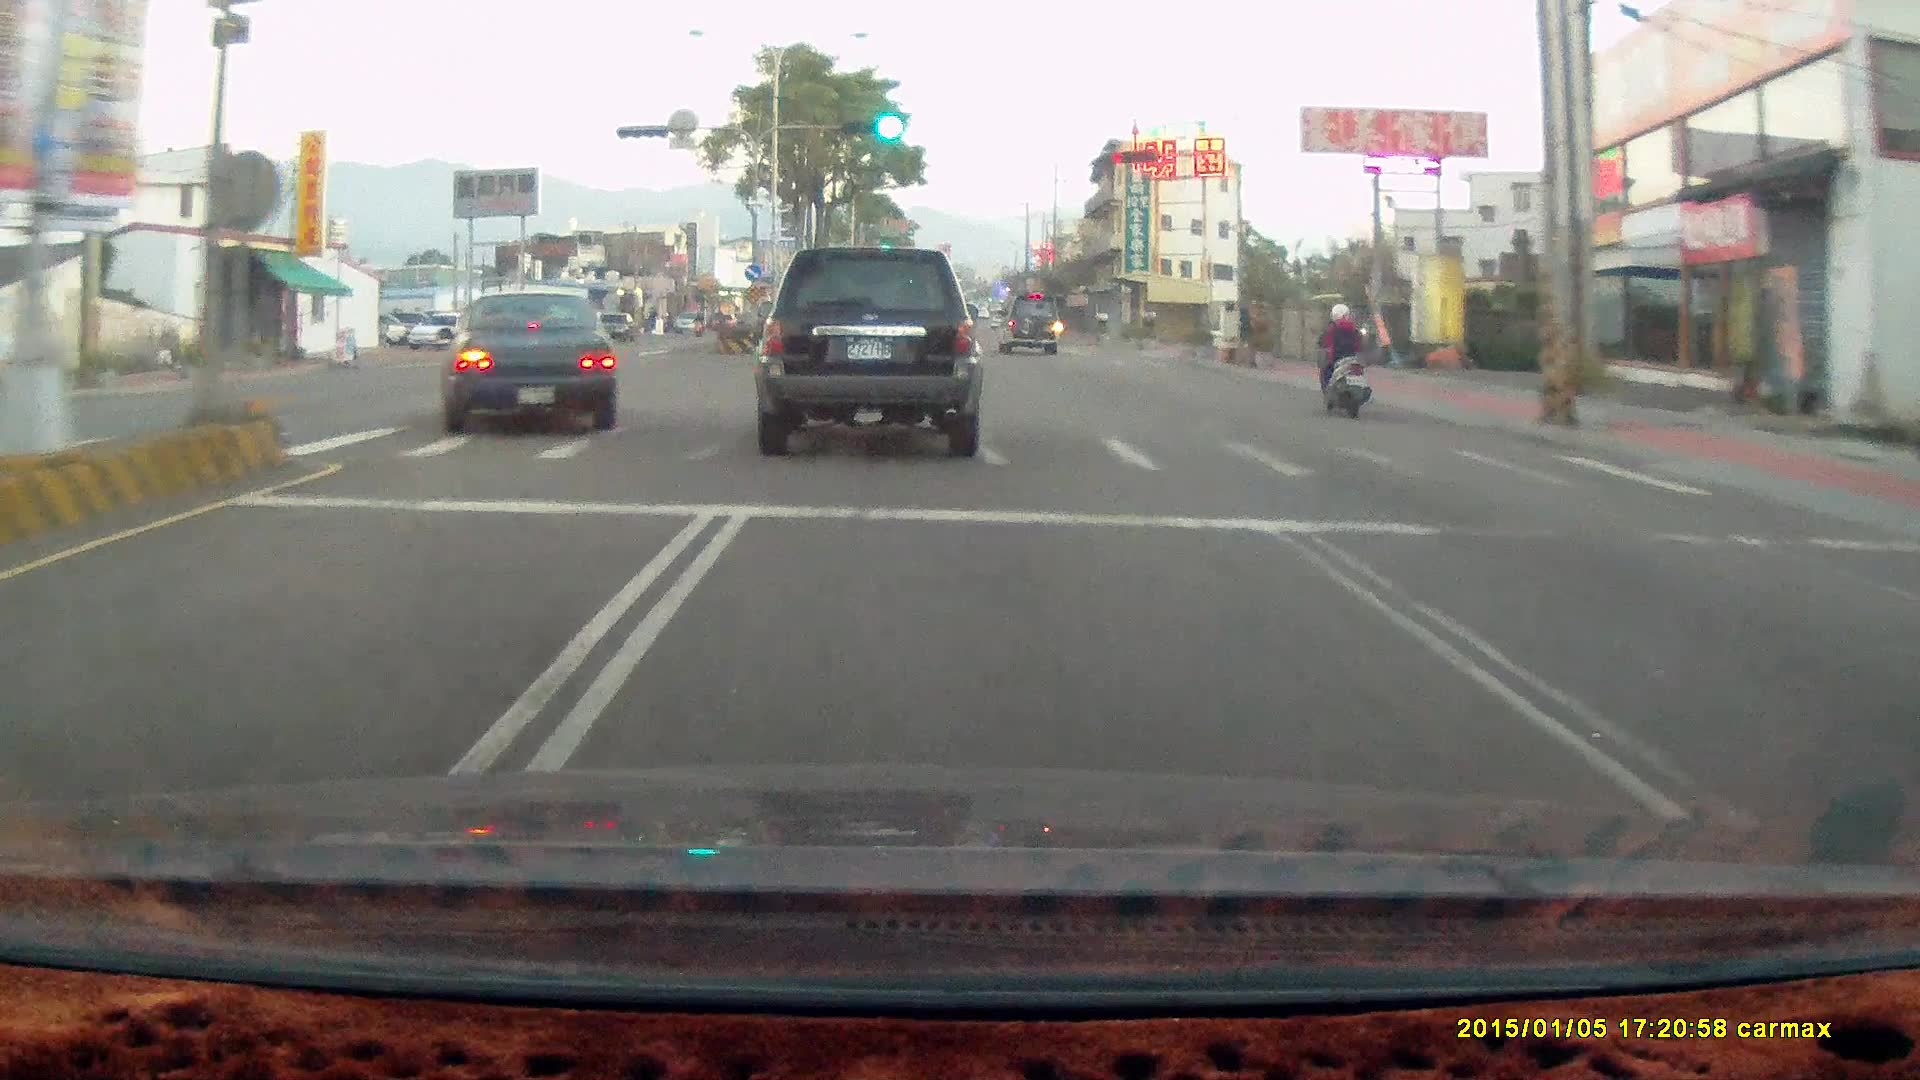rider: (1304, 291, 1382, 427), (1309, 299, 1371, 418)
vehicle: (752, 241, 985, 463), (752, 243, 983, 454), (437, 282, 616, 431), (436, 285, 616, 429), (996, 289, 1063, 355), (995, 279, 1059, 341), (406, 312, 482, 350), (587, 309, 637, 342)
